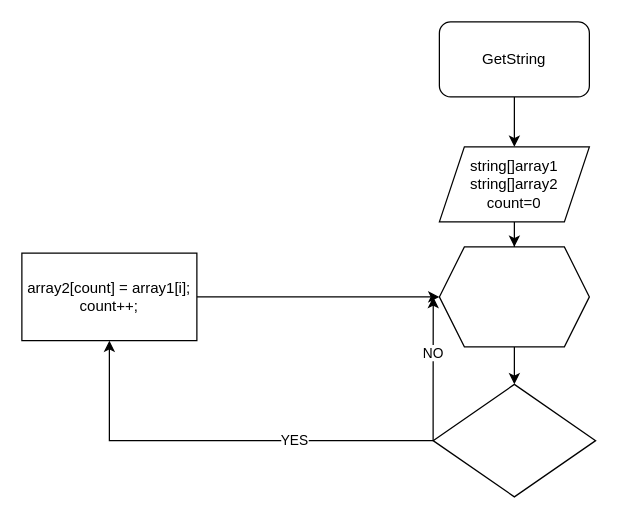
The diagram is 618 pixels wide and 519 high, and some of its shapes have lost their labels. Here are the shapes that lost their labels. From the top down, the box of each, then its label:
(438, 246, 589, 347): int i = 0; i < array1.Length; i++
(432, 383, 596, 497): array1[i].Length <= 3
